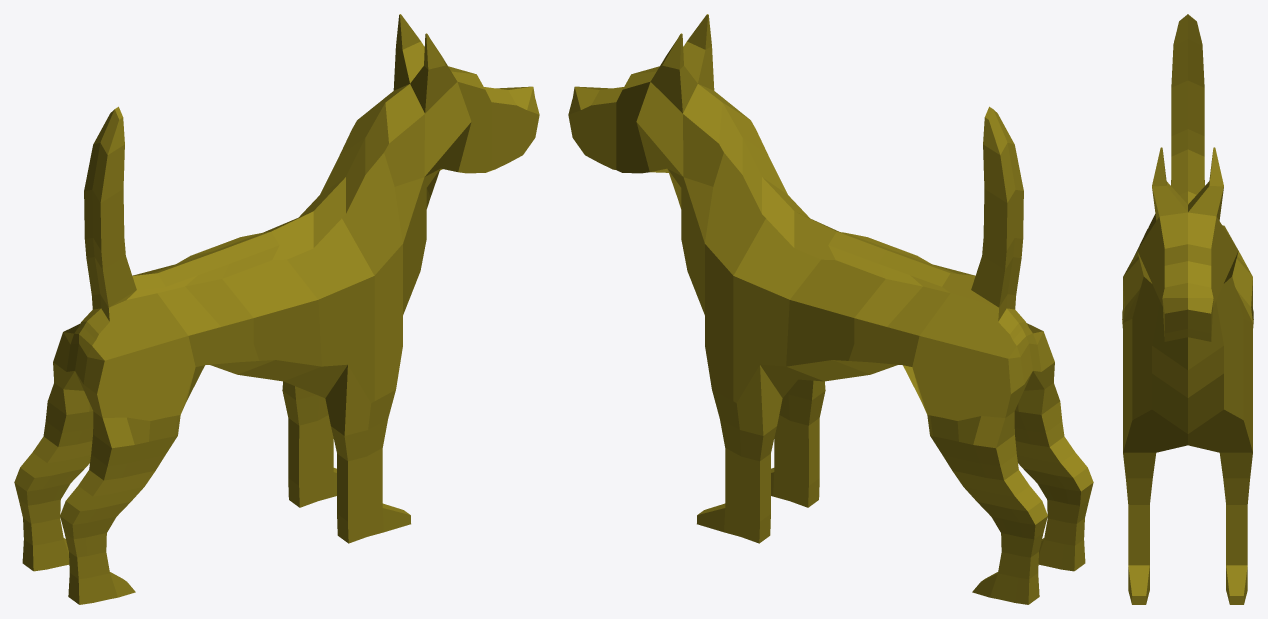
File: dog.glb
The picture shows the model from 3 angles, left to right: view 1: azimuth 30°, elevation 25°; view 2: azimuth 150°, elevation 25°; view 3: azimuth 270°, elevation 25°; orthographic projection.
Parts seen in each view (by area): view 1: Plane; view 2: Plane; view 3: Plane.
Boxes of the visible parts, x1,y1,x2,y2 form: Plane: (14,14,539,604); Plane: (568,14,1093,604); Plane: (1122,14,1253,604).
Size of the model in its own units: 1.13 by 1.05 by 0.2628.
